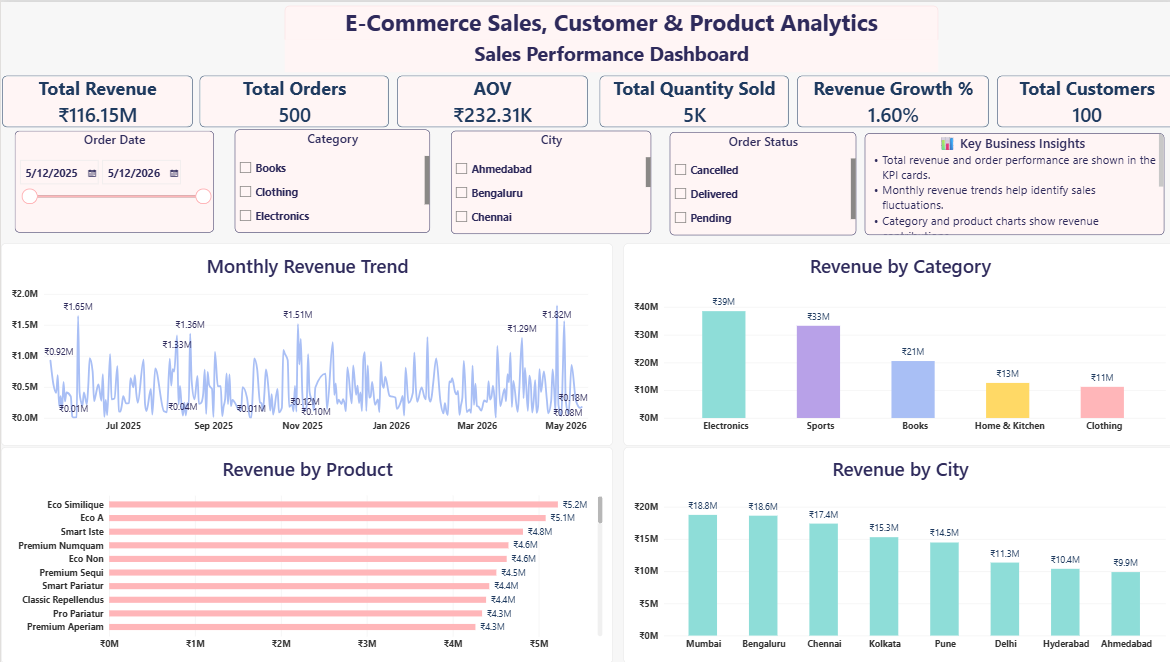

Layout of this report page (visuals, bound fields, positions):
{"tool":"powerbi","page":{"name":"Sales Performance Dashboard","canvas":[1920,1080],"ordinal":0},"visuals":[{"type":"cardVisual","fields":{"Data":["order_items.Total Revenue"]},"box":[2.1,121.4,310.8,84.4],"z":0},{"type":"cardVisual","fields":{"Data":["orders.Total Orders"]},"box":[325.2,121.4,308.7,84.4],"z":1000},{"type":"cardVisual","fields":{"Data":["order_items.AOV"]},"box":[648.4,121.4,310.8,84.4],"z":2000},{"type":"cardVisual","fields":{"Data":["order_items.Total Quantity Sold"]},"box":[977.7,121.4,308.7,84.4],"z":3000},{"type":"cardVisual","fields":{"Data":["Date.Revenue Growth %"]},"box":[1300.9,121.4,312.9,84.4],"z":4000},{"type":"cardVisual","fields":{"Data":["customers.Total Customers"]},"box":[1628.1,121.4,292.3,84.4],"z":5000},{"type":"lineChart","title":"Monthly Revenue Trend","fields":{"Category":["Date.Date"],"Y":["order_items.Total Revenue"]},"box":[0,395.2,1000.3,331.4],"z":6000},{"type":"clusteredColumnChart","title":"Revenue by Category","fields":{"Category":["products.category"],"Y":["order_items.Total Revenue"]},"box":[1016.8,395.2,903.6,331.4],"z":7000},{"type":"clusteredBarChart","title":"Revenue by Product","fields":{"Category":["products.product_name"],"Y":["order_items.Total Revenue"]},"box":[0,726.6,1000.3,354],"z":8000},{"type":"clusteredColumnChart","title":"Revenue by City","fields":{"Category":["customers.city"],"Y":["order_items.Total Revenue"]},"box":[1016.8,726.6,903.6,354],"z":9000},{"type":"slicer","title":"Order Date","fields":{"Values":["Date.Date"]},"box":[22.6,209.9,325.2,166.7],"z":10000},{"type":"slicer","title":"Category","fields":{"Values":["products.category"]},"box":[382.8,207.9,319,168.8],"z":11000},{"type":"slicer","title":"City","fields":{"Values":["customers.city"]},"box":[734.8,209.9,327.3,168.8],"z":12000},{"type":"slicer","title":"Order Status","fields":{"Values":["orders.status"]},"box":[1093,212,304.6,168.8],"z":13000},{"type":"textbox","box":[1412,214.1,489.9,166.7],"z":15000},{"type":"textbox","box":[463.1,6.2,1068.3,61.7],"z":16000},{"type":"textbox","box":[463.1,61.7,1068.3,53.5],"z":17000}]}

Visuals, with their boxes in screenshot pixels (x1, y1, x2, y2), scaled from the page's 1920x1080 canvas onto the 1170x662 screenshot:
cardVisual - order_items.Total Revenue: [1, 74, 191, 126]
cardVisual - orders.Total Orders: [198, 74, 386, 126]
cardVisual - order_items.AOV: [395, 74, 585, 126]
cardVisual - order_items.Total Quantity Sold: [596, 74, 784, 126]
cardVisual - Date.Revenue Growth %: [793, 74, 983, 126]
cardVisual - customers.Total Customers: [992, 74, 1169, 126]
"Monthly Revenue Trend" lineChart: [0, 242, 610, 445]
"Revenue by Category" clusteredColumnChart: [620, 242, 1169, 445]
"Revenue by Product" clusteredBarChart: [0, 445, 610, 661]
"Revenue by City" clusteredColumnChart: [620, 445, 1169, 661]
"Order Date" slicer: [14, 129, 212, 231]
"Category" slicer: [233, 127, 428, 231]
"City" slicer: [448, 129, 647, 232]
"Order Status" slicer: [666, 130, 852, 233]
textbox: [860, 131, 1159, 233]
textbox: [282, 4, 933, 42]
textbox: [282, 38, 933, 71]
